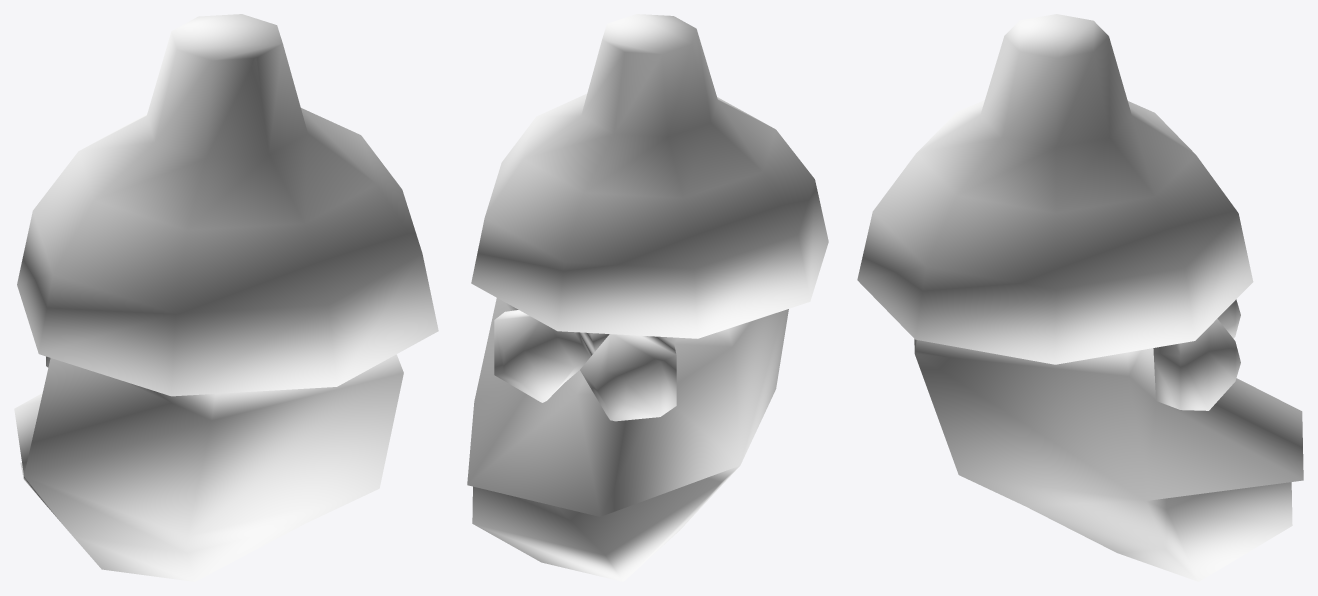
File: saru1.ico.obj
3 views of the same model, side by side, from view 1: azimuth 30°, elevation 25°; view 2: azimuth 150°, elevation 25°; view 3: azimuth 270°, elevation 25° (orthographic). The views are drawn at different scales.
Size of the model in its own units: 3.12 by 4.56 by 3.52.
Materials: 1 (1 with a texture image).
